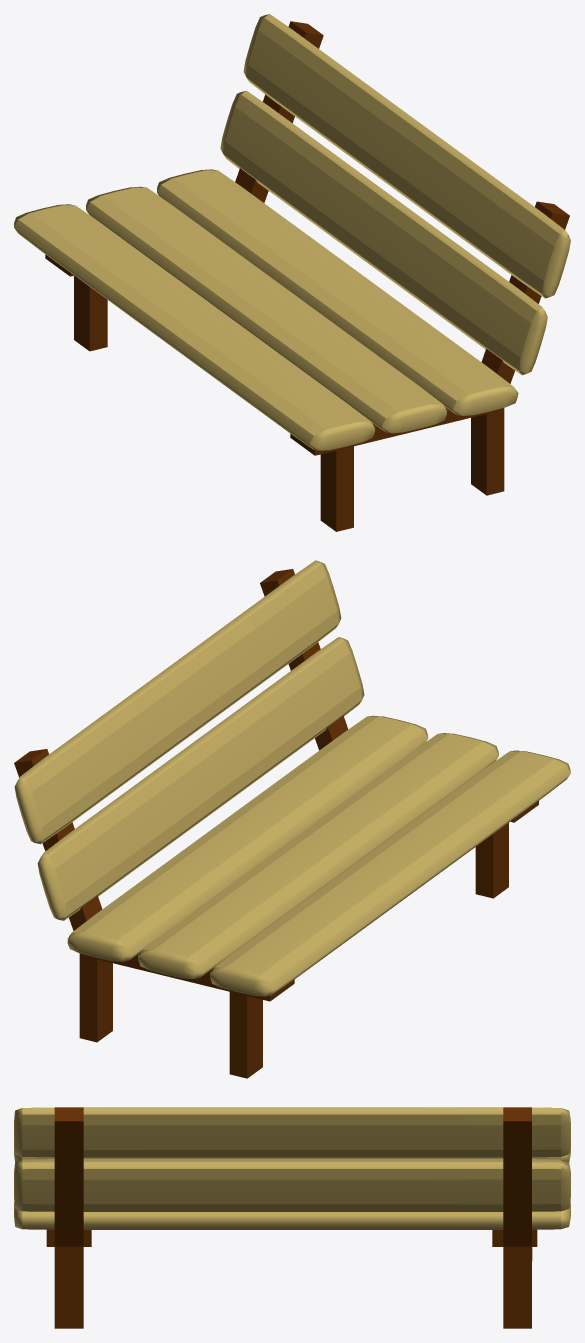
Rendered from Skameyka.fbx.
The picture shows the model from 3 angles, top to bottom: view 1: azimuth 30°, elevation 25°; view 2: azimuth 150°, elevation 25°; view 3: azimuth 270°, elevation 25°; orthographic projection. The views are drawn at different scales.
Visible parts, largest first — view 1: Cube.009; view 2: Cube.009; view 3: Cube.009.
Part boxes in pixels (<box>): Cube.009: <box>14,14,570,531</box>; Cube.009: <box>14,560,570,1078</box>; Cube.009: <box>14,1107,570,1328</box>.
Size of the model in its own units: 1304 by 1191 by 2477.
